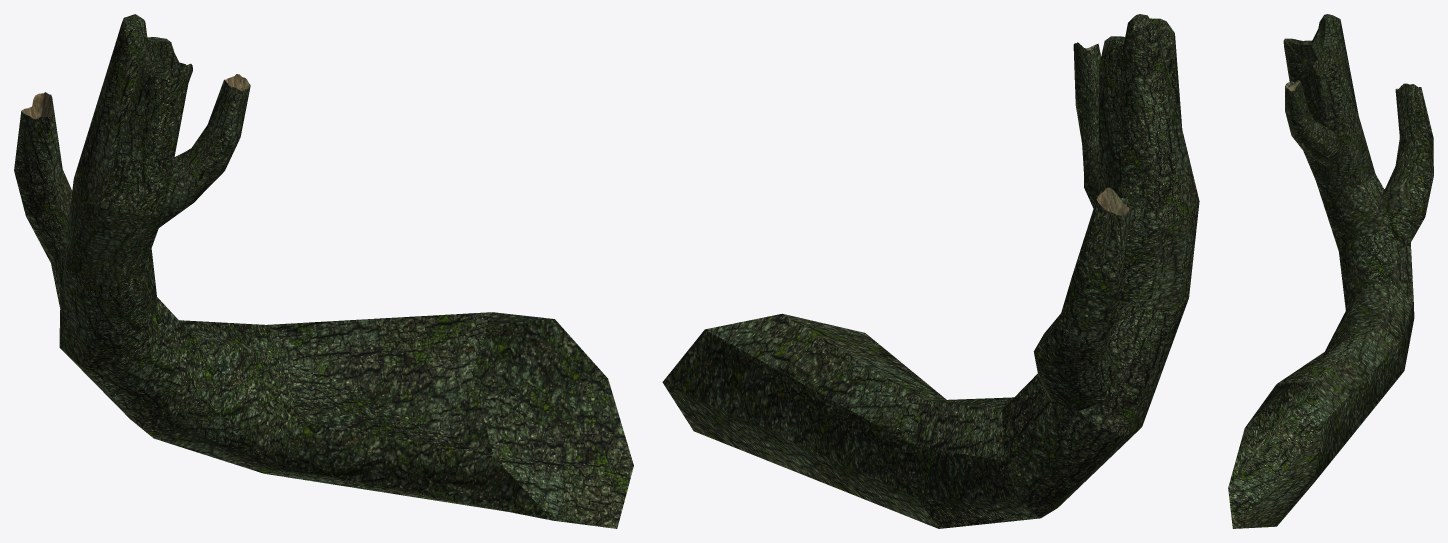
File: flora_treestump_wg_01.obj
3 renders of one model, left to right at view 1: azimuth 30°, elevation 25°; view 2: azimuth 150°, elevation 25°; view 3: azimuth 270°, elevation 25°, orthographic. The views are drawn at different scales.
Parts seen in each view (by area): view 1: nifid_1-matrix_Tri_Flora_treestump_WG_01_0-lib, nifid_6-matrix_Tri_Flora_treestump_WG_01_1-lib; view 2: nifid_1-matrix_Tri_Flora_treestump_WG_01_0-lib, nifid_6-matrix_Tri_Flora_treestump_WG_01_1-lib; view 3: nifid_1-matrix_Tri_Flora_treestump_WG_01_0-lib.
Part boxes in pixels (x1,y1,x2,y2): nifid_1-matrix_Tri_Flora_treestump_WG_01_0-lib: (14,14,633,528); nifid_6-matrix_Tri_Flora_treestump_WG_01_1-lib: (21,74,250,119); nifid_1-matrix_Tri_Flora_treestump_WG_01_0-lib: (662,14,1199,528); nifid_6-matrix_Tri_Flora_treestump_WG_01_1-lib: (1084,43,1131,215); nifid_1-matrix_Tri_Flora_treestump_WG_01_0-lib: (1228,14,1433,528).
Size of the model in its own units: 27.37 by 28.56 by 14.05.
